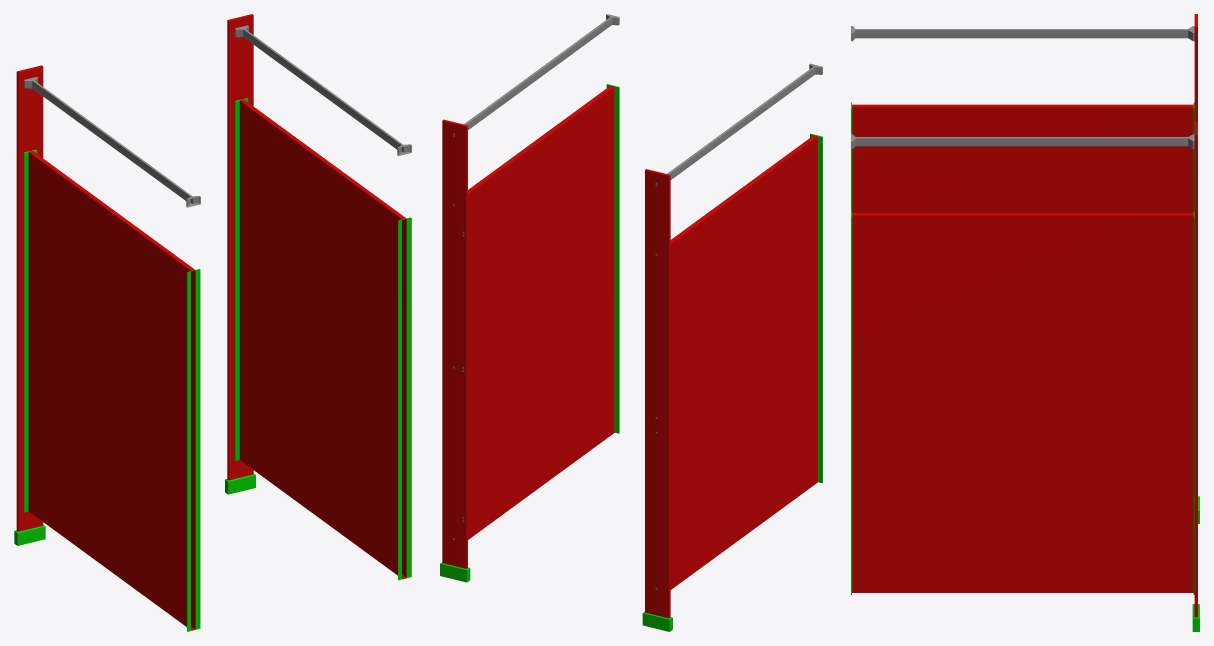
The model's file is Toilet_Stall_Open_NoDoor.FBX.
3 views of the same model, side by side, from view 1: azimuth 30°, elevation 25°; view 2: azimuth 150°, elevation 25°; view 3: azimuth 270°, elevation 25° (orthographic). The views are drawn at different scales.
Parts seen in each view (by area): view 1: Box021, Box017, Box022, Box018, Box019, Box023; view 2: Box021, Box017, Box022, Box018, Box023, Box019; view 3: Box017, Box021, Box023, Box019, Box018, Box022.
Part boxes in pixels (x1,y1,x2,y2): Box021: (23, 149, 200, 631); Box017: (234, 98, 411, 580); Box022: (14, 65, 45, 545); Box018: (225, 14, 255, 494); Box019: (234, 25, 411, 155); Box023: (23, 77, 200, 207); Box021: (670, 133, 822, 589); Box017: (468, 84, 619, 539); Box022: (642, 169, 672, 631); Box018: (440, 119, 470, 582); Box023: (667, 63, 822, 179); Box019: (464, 14, 619, 129); Box017: (851, 210, 1194, 594); Box021: (851, 102, 1194, 212); Box023: (851, 26, 1194, 41); Box019: (851, 134, 1194, 149); Box018: (1192, 122, 1199, 631); Box022: (1194, 14, 1199, 523).
Size of what is drawn, in the model's own units: 33.7 by 63.77 by 40.62.
